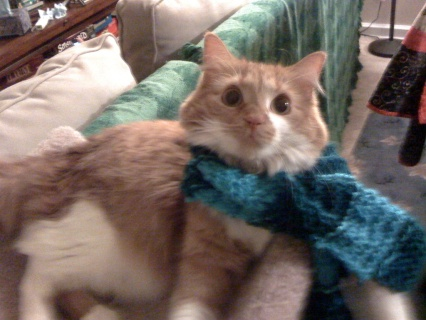Cat: (0, 31, 405, 319)
